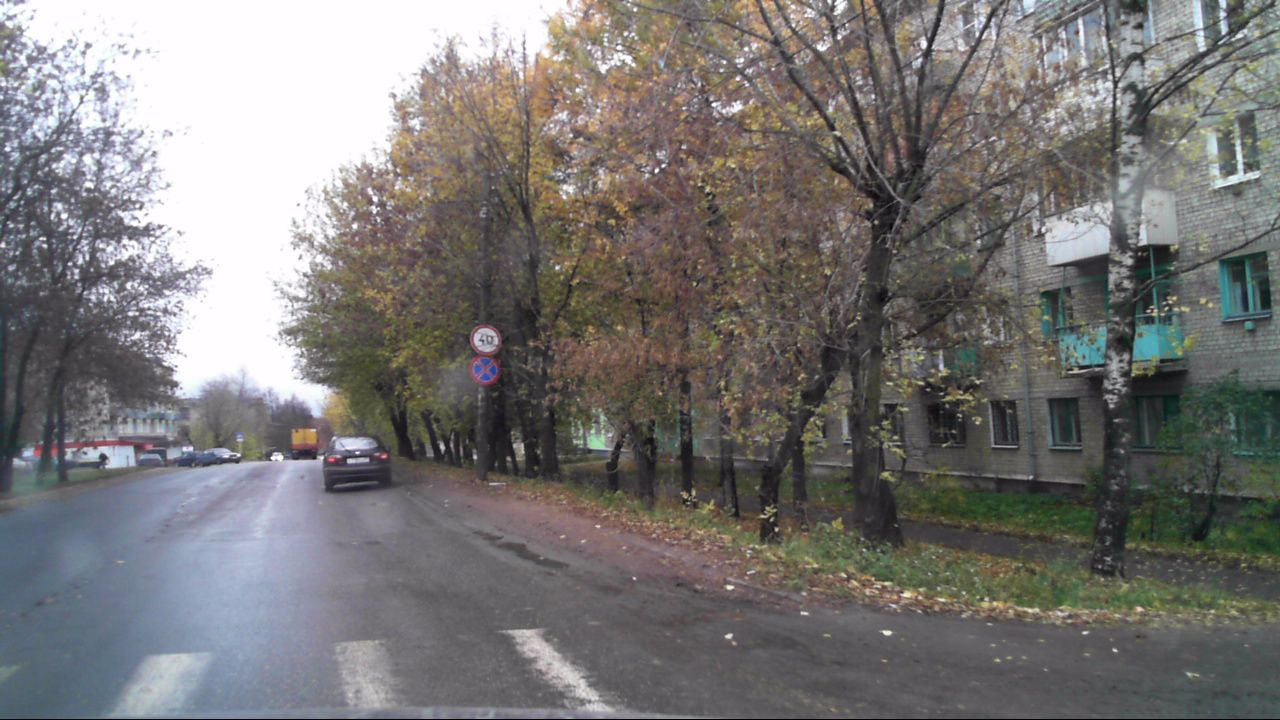No Parking: (468, 355, 500, 385)
speed_warning_40: (470, 324, 502, 356)
